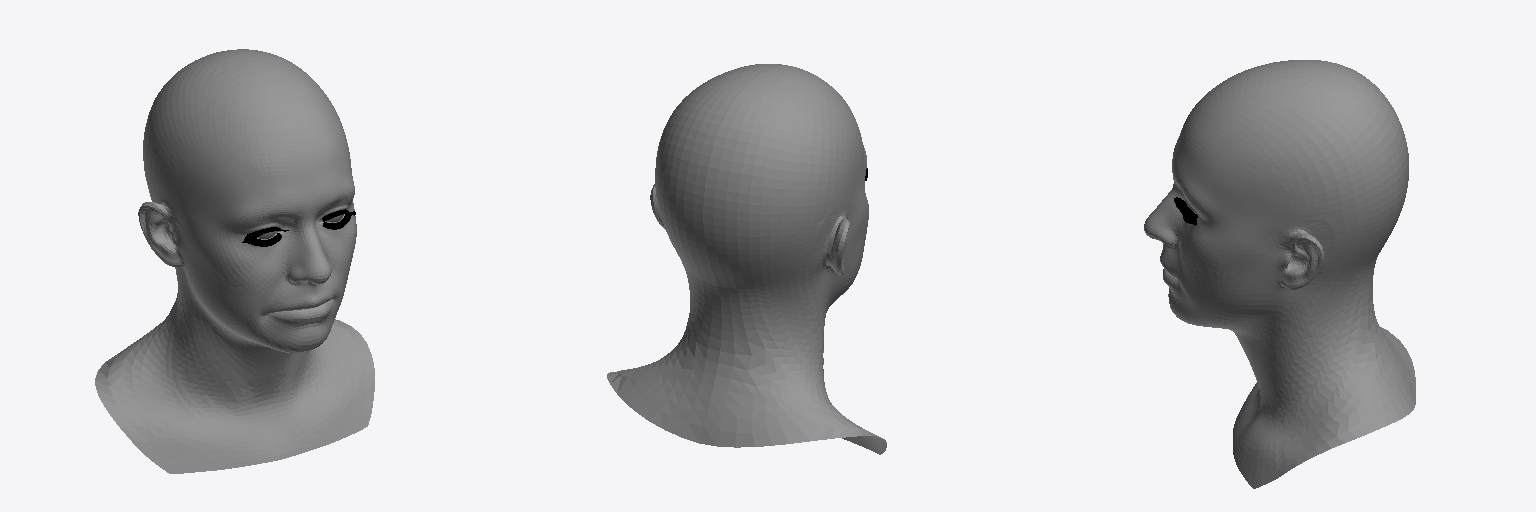
File: mouthStretch_R.obj
3 views of the same model, side by side, from view 1: azimuth 30°, elevation 25°; view 2: azimuth 150°, elevation 25°; view 3: azimuth 270°, elevation 25° (orthographic).
Size of the model in its own units: 24.83 by 33.81 by 22.31.